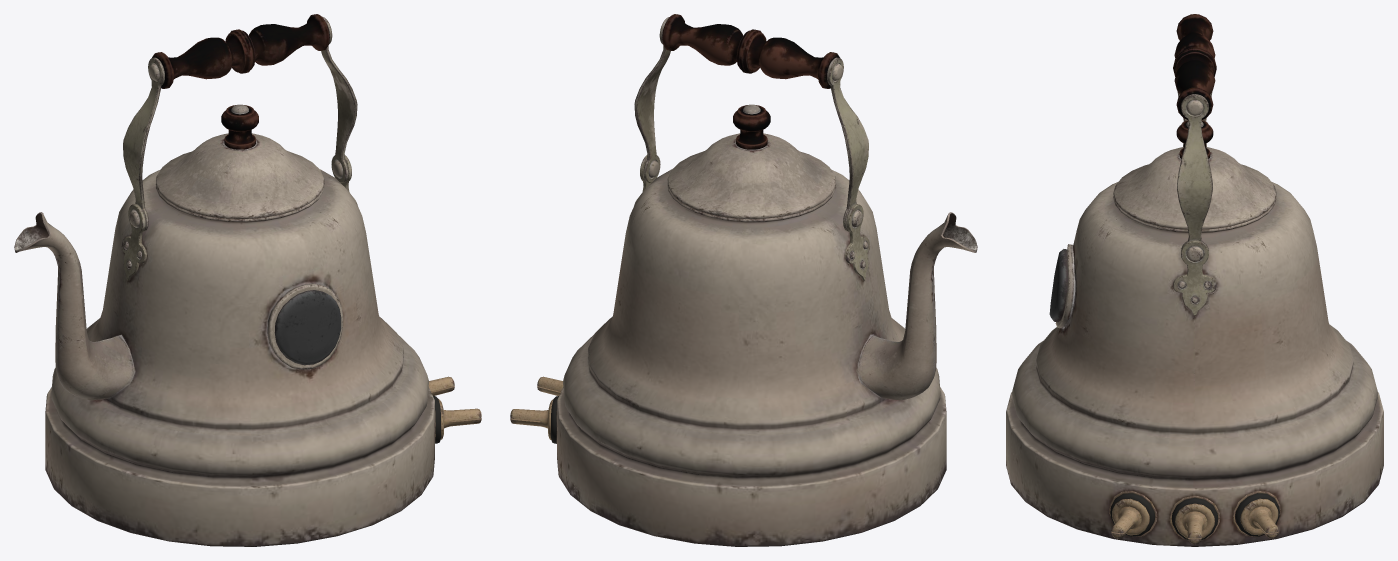
Rendered from ph_vintage_electric_kettle.glb.
3 views of the same model, side by side, from view 1: azimuth 30°, elevation 25°; view 2: azimuth 150°, elevation 25°; view 3: azimuth 270°, elevation 25° (orthographic). The views are drawn at different scales.
Visible parts, largest first — view 1: vintage_electric_kettle; view 2: vintage_electric_kettle; view 3: vintage_electric_kettle.
Boxes of the visible parts, x1=… form: vintage_electric_kettle: x1=14, y1=14, x2=481, y2=546; vintage_electric_kettle: x1=510, y1=14, x2=977, y2=546; vintage_electric_kettle: x1=1006, y1=14, x2=1383, y2=546.
Size of the model in its own units: 0.3209 by 0.3047 by 0.2486.
2 materials, 2 textured.
